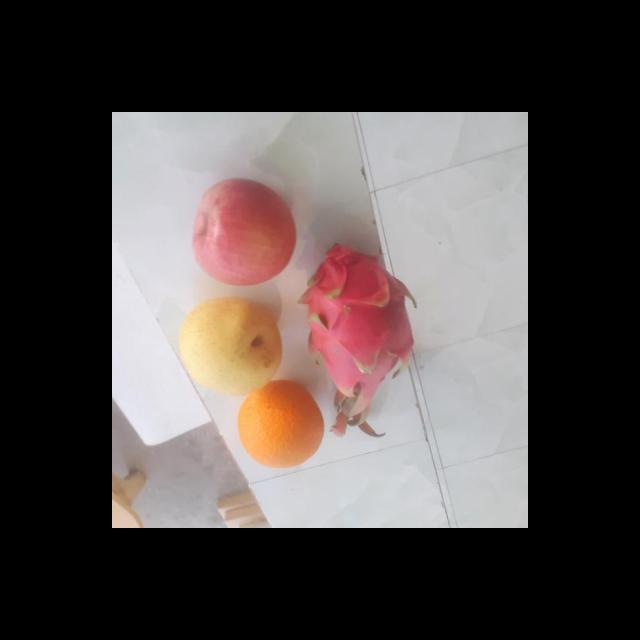apple: (187, 180, 298, 288)
orange: (234, 380, 325, 468)
pear: (173, 297, 284, 395)
pitaya: (294, 242, 416, 401)
